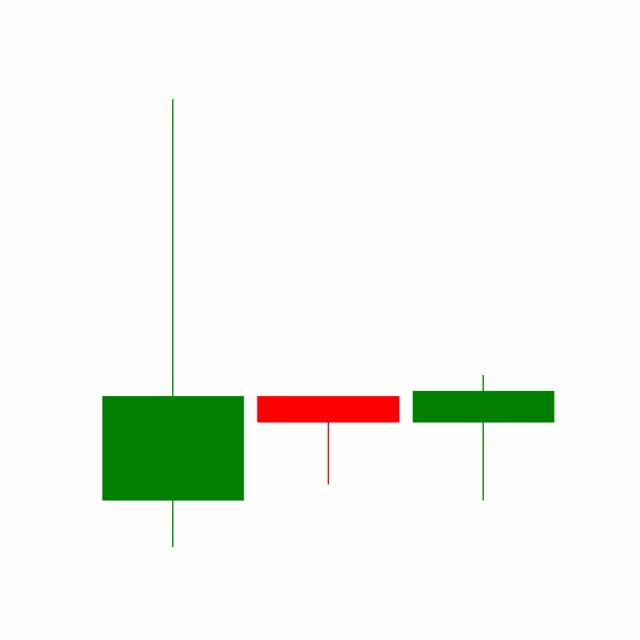Hanging Man: (405, 373, 561, 503)
